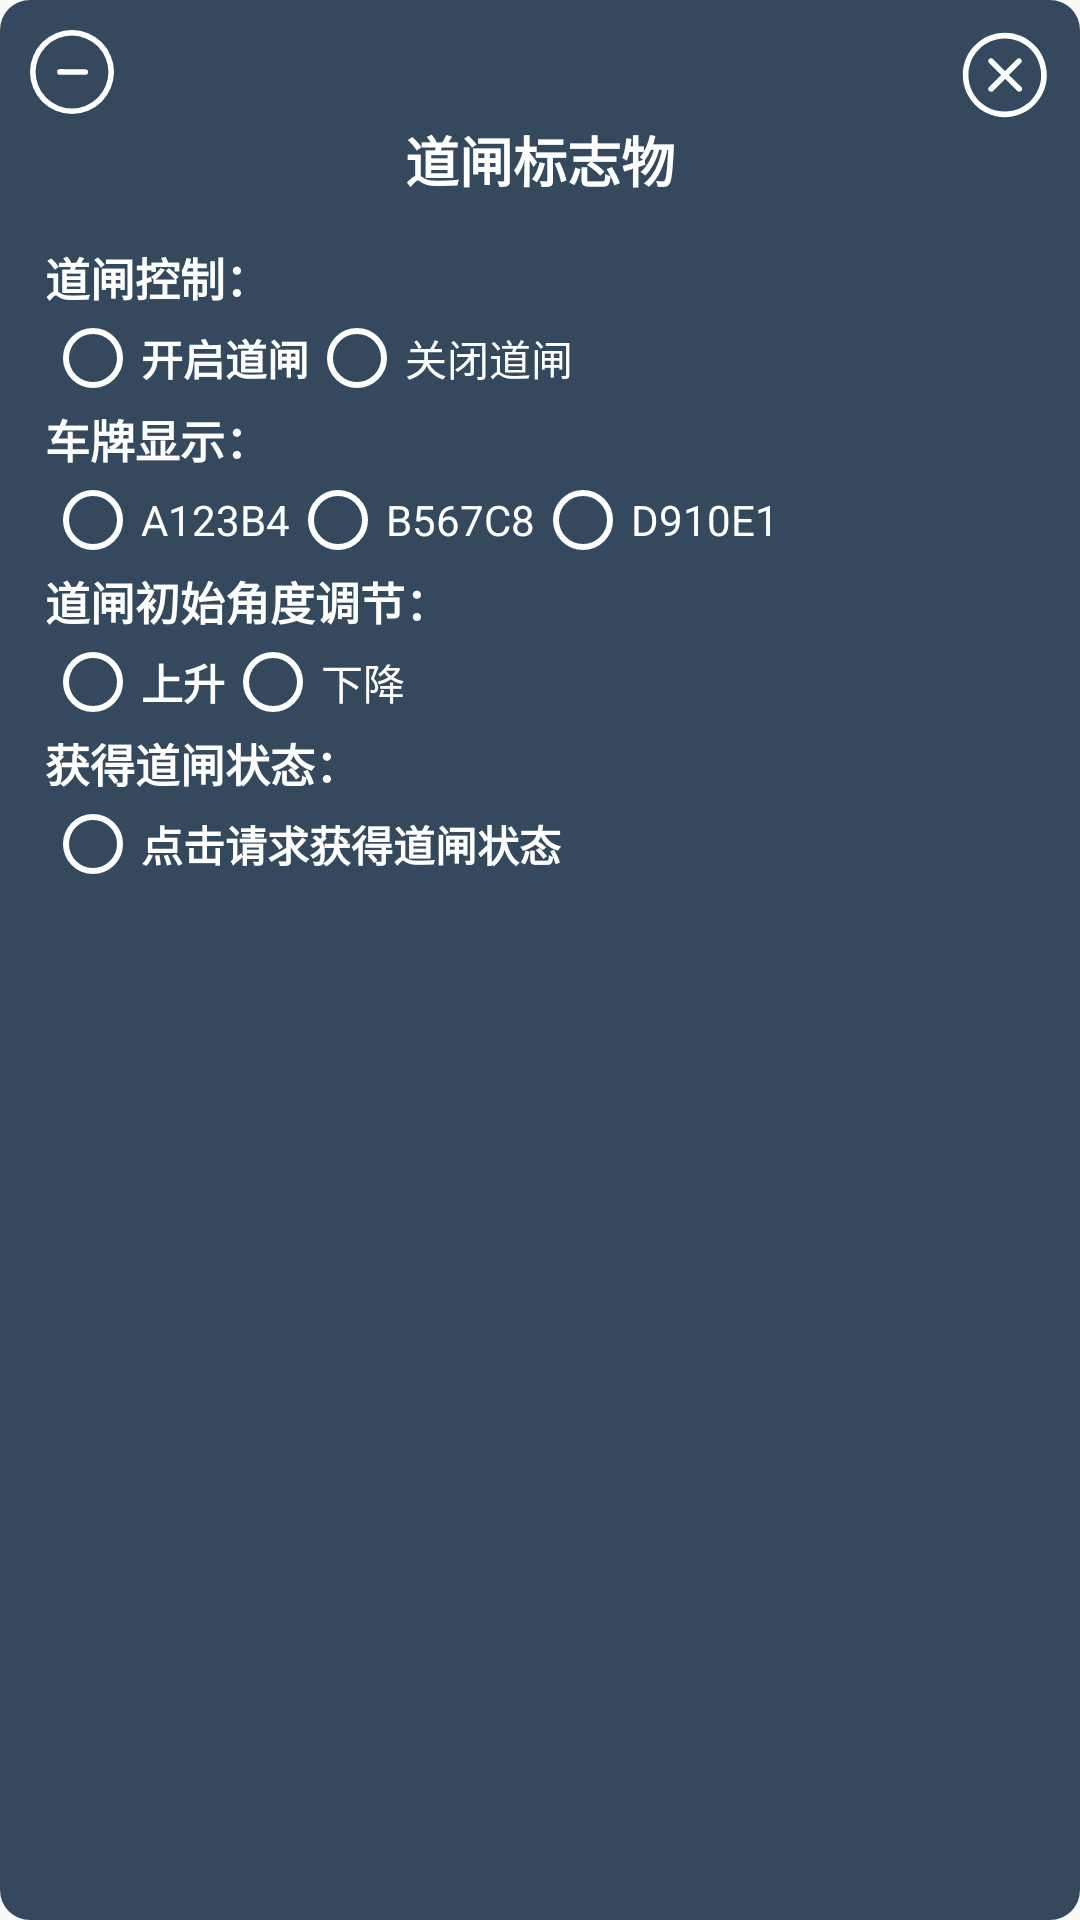

Screen size 1080w x 1920h. Icon name, then its center in pixels as point (x, y):
minimize: point (72, 72)
关闭悬浮窗: point (1004, 75)
